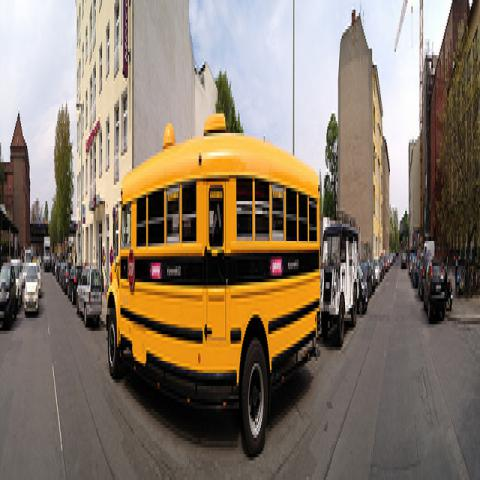bus: (107, 116, 322, 456)
car: (20, 97, 435, 464), (76, 264, 102, 328), (424, 258, 445, 322), (0, 264, 16, 330), (24, 264, 38, 312), (11, 260, 22, 315), (66, 263, 79, 305), (358, 267, 369, 316), (367, 260, 376, 292), (63, 262, 72, 294), (374, 257, 381, 285), (401, 252, 407, 268), (381, 256, 385, 273)
motorcycle: (443, 255, 453, 309), (454, 255, 461, 298)
truck: (320, 209, 360, 344), (44, 237, 50, 274)
